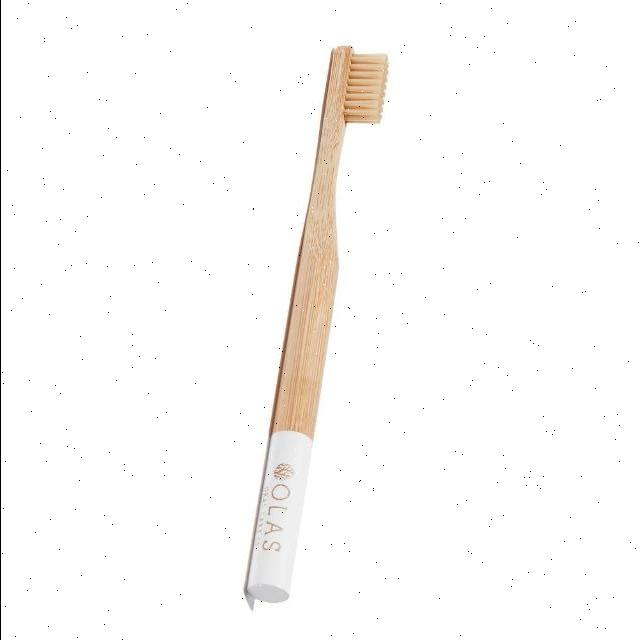toothbrush: (228, 42, 406, 612)
